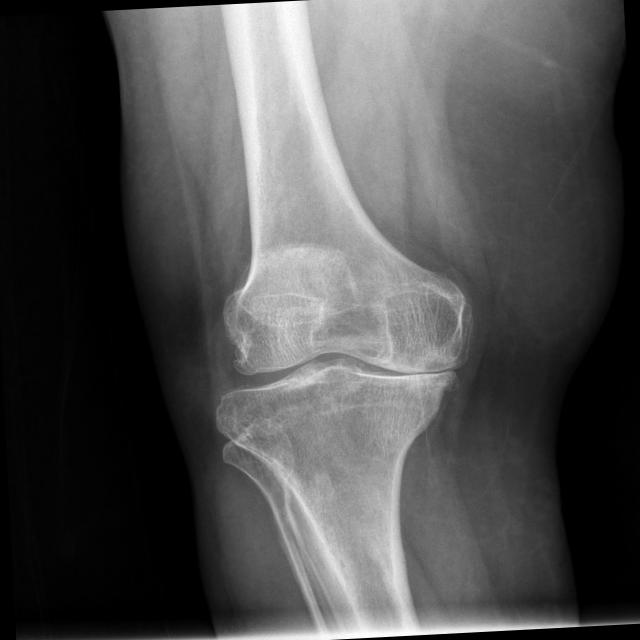Knee: (208, 290, 478, 462)
